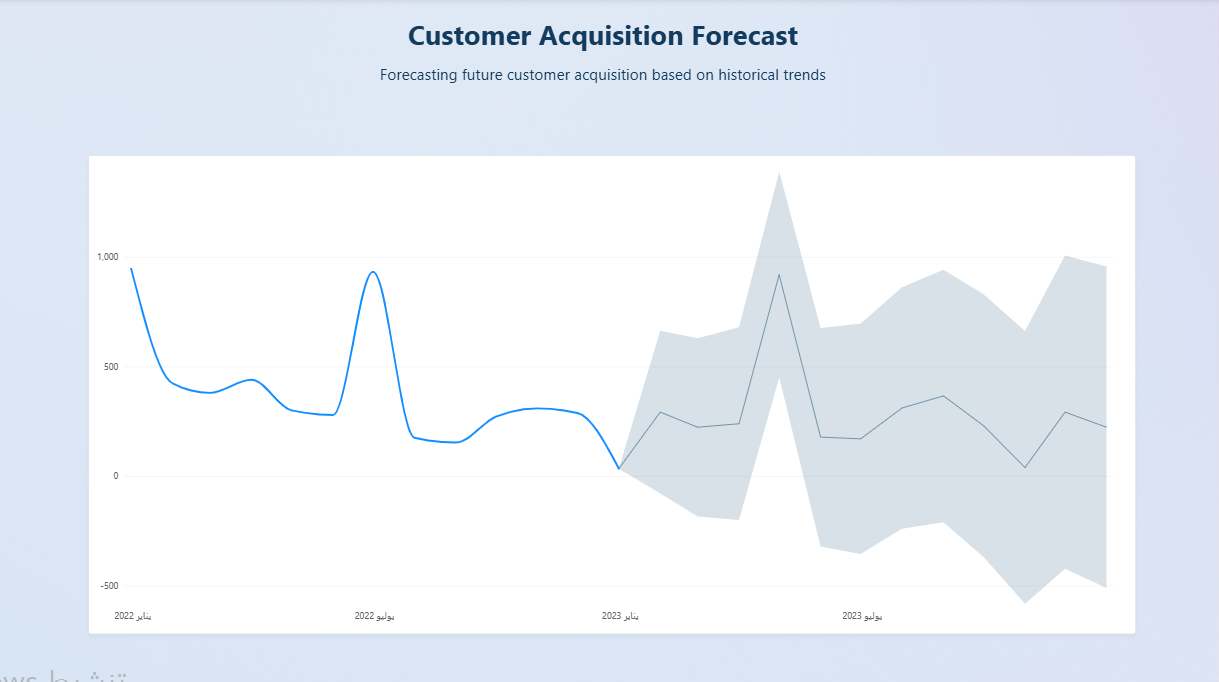

This screenshot's page, from the dashboard's own definition file:
{"tool":"powerbi","page":{"name":"Customer Forecas","canvas":[1920,1080],"ordinal":2},"visuals":[{"type":"lineChart","title":"First Purchase Date","fields":{"Y":["Count(Sales.Customer ID)"],"Category":["Sales.First Purchase Date"]},"box":[152.4,246.2,1636.4,747.9],"z":0},{"type":"textbox","box":[152.4,28.1,1608.3,157.1],"z":1000}]}

Visuals, with their boxes in screenshot pixels (x1, y1, x2, y2), scaled from the page's 1920x1080 canvas onto the 1219x682 screenshot:
"First Purchase Date" lineChart: 97 155 1136 628
textbox: 97 18 1118 117
